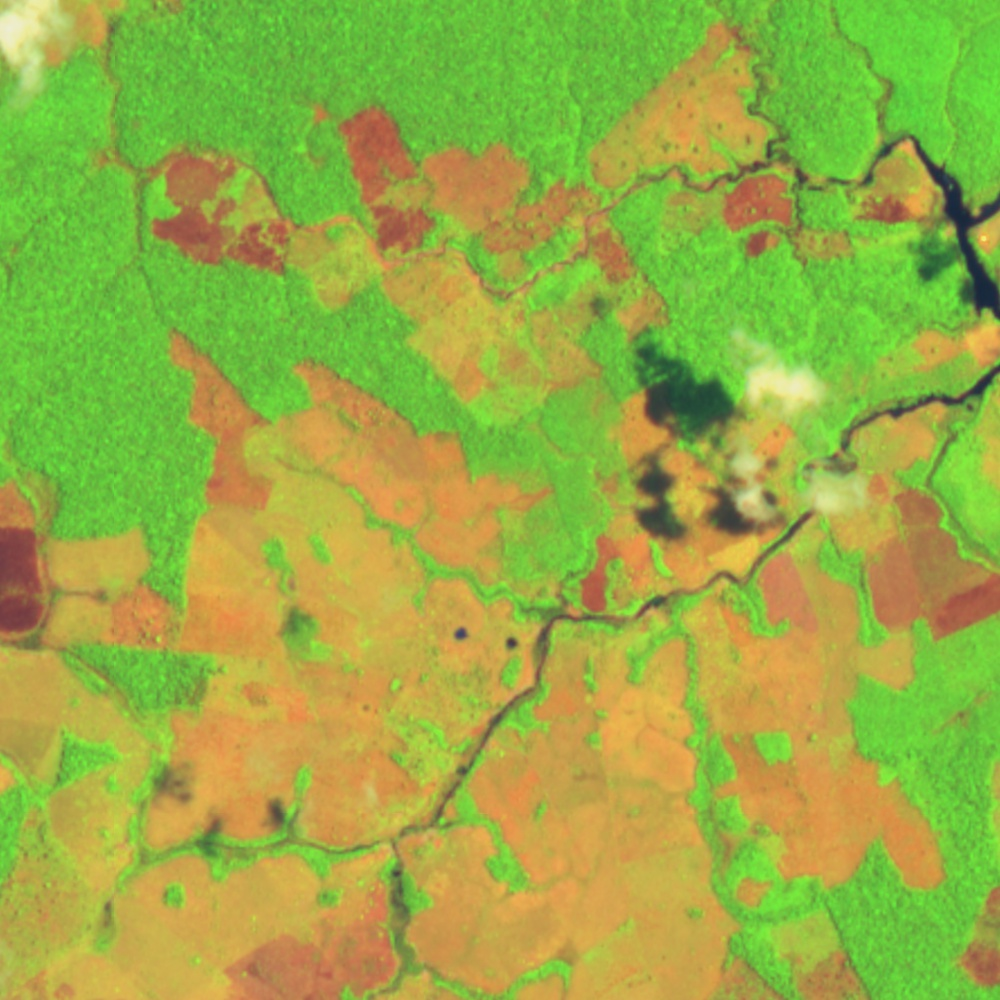legal: (1, 317, 1000, 1000), (118, 97, 684, 405), (592, 18, 1000, 312), (1, 467, 178, 654), (1, 643, 163, 795), (1, 1, 126, 64), (138, 1, 194, 15)
